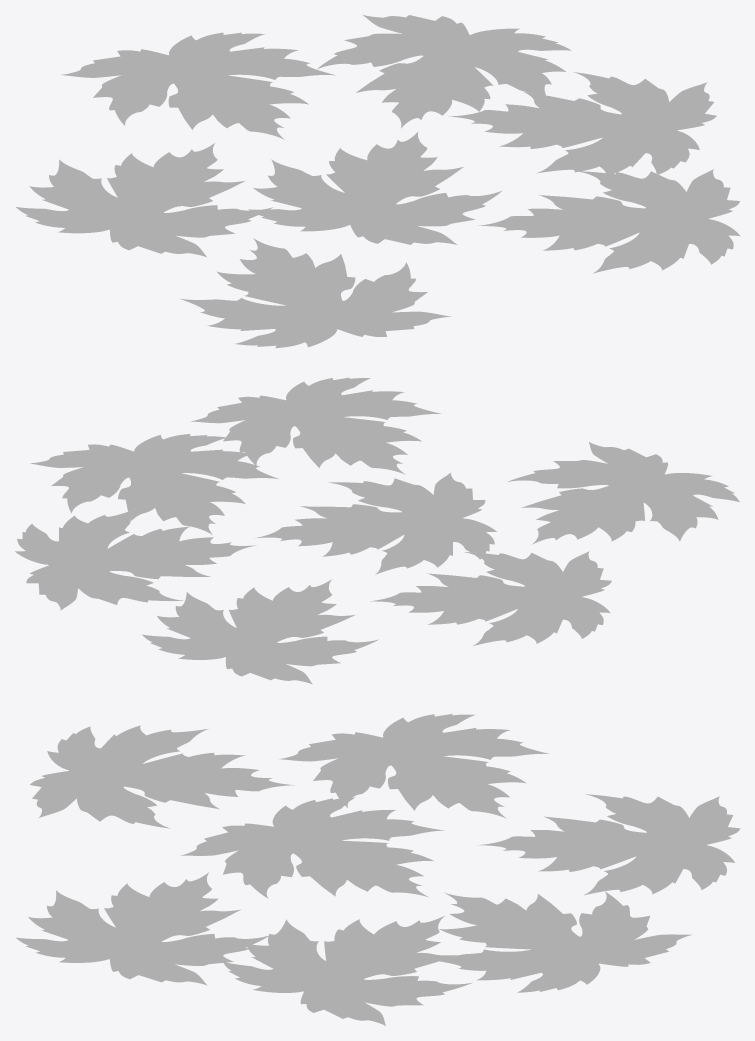
The model's file is FakeLeaf.glb.
3 renders of one model, top to bottom at view 1: azimuth 30°, elevation 25°; view 2: azimuth 150°, elevation 25°; view 3: azimuth 270°, elevation 25°, orthographic. The views are drawn at different scales.
Parts seen in each view (by area): view 1: Loft.007; view 2: Loft.007; view 3: Loft.007.
Part boxes in pixels (bbox=[...]): Loft.007: bbox=[16, 14, 740, 348]; Loft.007: bbox=[15, 377, 739, 684]; Loft.007: bbox=[15, 714, 740, 1025].
Bounding box in the file's own units: 0.3783 × 3.78e-08 × 0.3714.
Materials: 1 (1 with a texture image).
